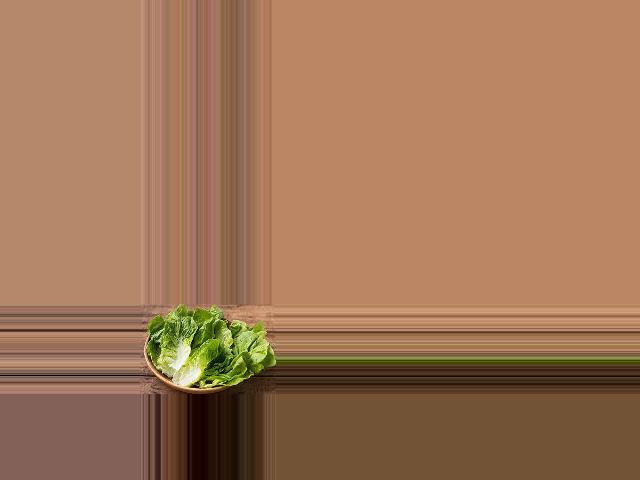lettuce: (138, 309, 273, 393)
